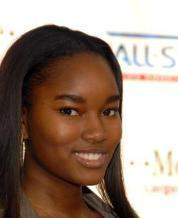face: (60, 94, 116, 170)
